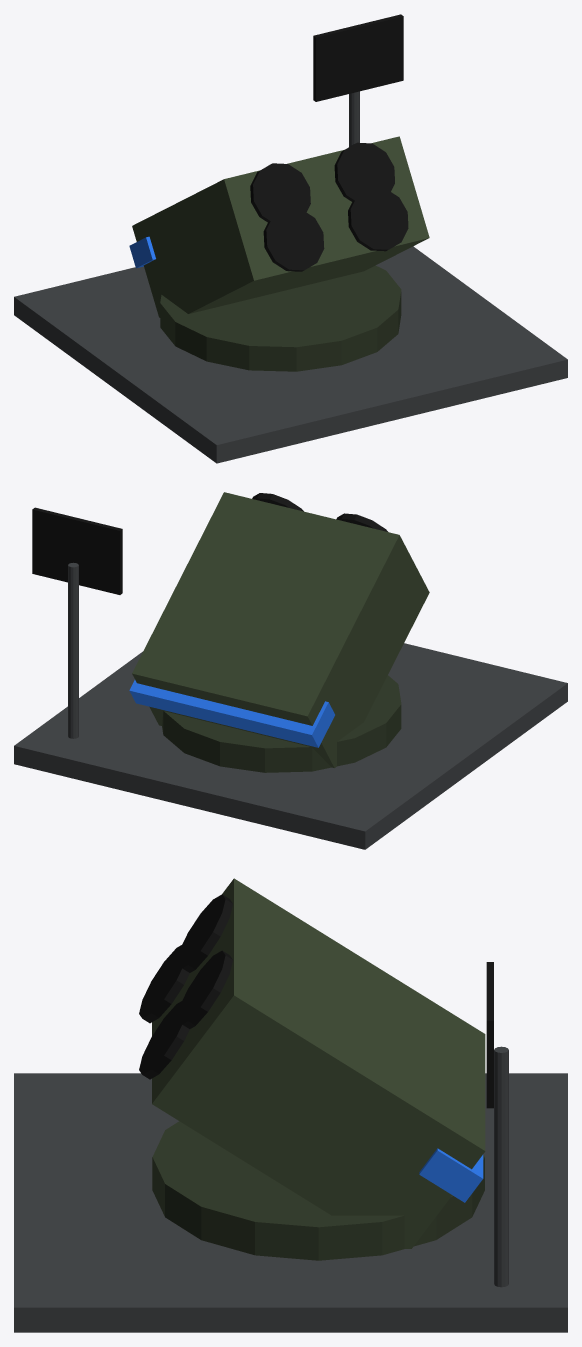
The model's file is ru_sam_site.glb.
3 views of the same model, one above another, from view 1: azimuth 30°, elevation 25°; view 2: azimuth 150°, elevation 25°; view 3: azimuth 270°, elevation 25° (orthographic). The views are drawn at different scales.
Visible parts, largest first — view 1: base, barrel, turret, radar_panel, tube_3, tube_2, tube_0, tube_1, radar_mast, team_band; view 2: barrel, base, turret, radar_panel, team_band, radar_mast; view 3: base, barrel, turret, radar_mast, tube_2, tube_3, team_band, tube_1, tube_0, radar_panel.
Part boxes in pixels (left/top/right/bottom): base: left=14, top=246, right=567, bottom=463; barrel: left=132, top=136, right=429, bottom=317; turret: left=160, top=265, right=401, bottom=371; radar_panel: left=313, top=14, right=403, bottom=101; tube_3: left=334, top=142, right=394, bottom=204; tube_2: left=250, top=163, right=310, bottom=225; tube_0: left=263, top=208, right=324, bottom=271; tube_1: left=348, top=188, right=408, bottom=251; radar_mast: left=349, top=91, right=359, bottom=146; team_band: left=129, top=236, right=155, bottom=268; barrel: left=132, top=492, right=429, bottom=767; base: left=14, top=643, right=567, bottom=849; turret: left=162, top=675, right=401, bottom=772; radar_panel: left=32, top=507, right=122, bottom=594; team_band: left=129, top=680, right=334, bottom=747; radar_mast: left=68, top=562, right=78, bottom=738; base: left=14, top=1073, right=567, bottom=1332; barrel: left=152, top=878, right=485, bottom=1248; turret: left=152, top=1121, right=484, bottom=1260; radar_mast: left=494, top=1046, right=508, bottom=1287; tube_2: left=175, top=894, right=232, bottom=972; tube_3: left=177, top=950, right=232, bottom=1028; team_band: left=419, top=1148, right=483, bottom=1202; tube_1: left=139, top=1001, right=189, bottom=1079; tube_0: left=139, top=945, right=189, bottom=1023; radar_panel: left=486, top=962, right=493, bottom=1108.
Size of the model in its own units: 6.15 by 3.8 by 6.
